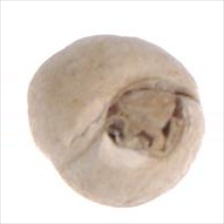L3: (98, 76, 190, 160)
L4: (26, 33, 206, 209)
